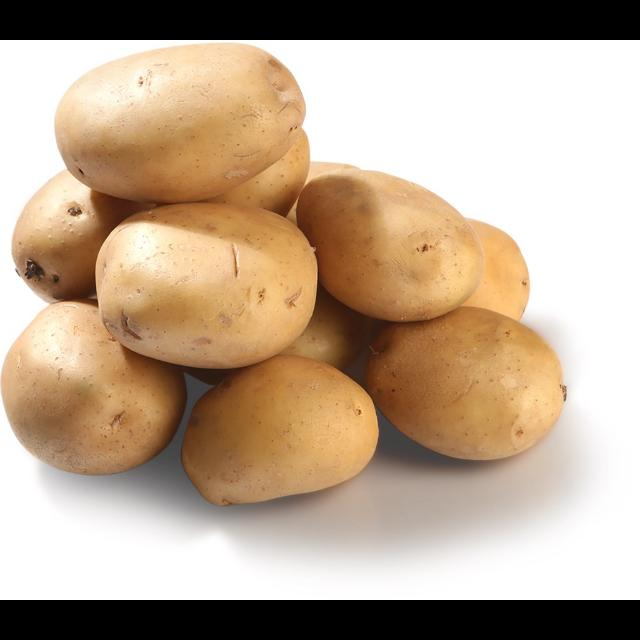Potato: (0, 106, 312, 304), (48, 42, 306, 202), (90, 202, 322, 368), (2, 299, 190, 477), (364, 304, 566, 464), (180, 355, 378, 511), (294, 172, 482, 324), (340, 218, 532, 348), (3, 159, 152, 303)
